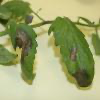Tomato leaf late blight: (49, 9, 95, 92), (9, 19, 37, 86)
